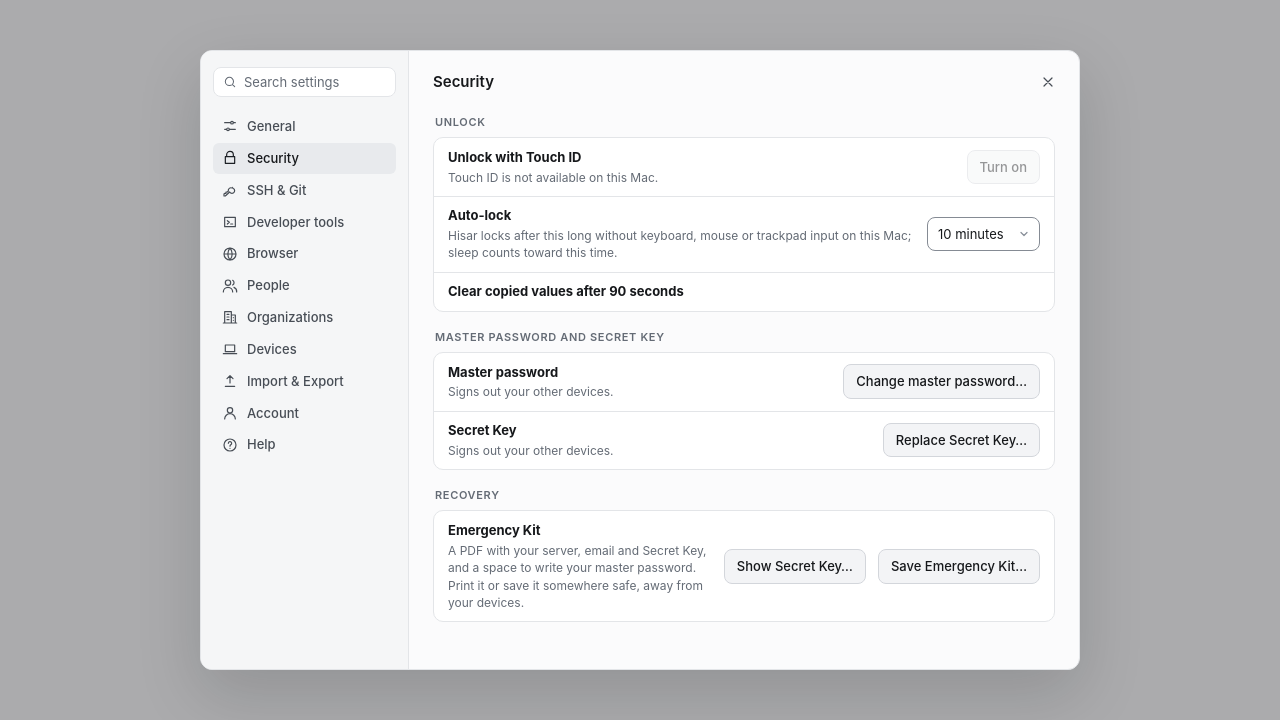
Scenario: Settings rows › offers changing the master password and replacing the Secret Key under Security
Check: the button with test id "replace-secret-key" reads "Replace Secret Key…", box left=883, top=422, right=1040, bottom=457
Click the button with test id "change-master-password" at (942, 382), box left=843, top=364, right=1040, bottom=399
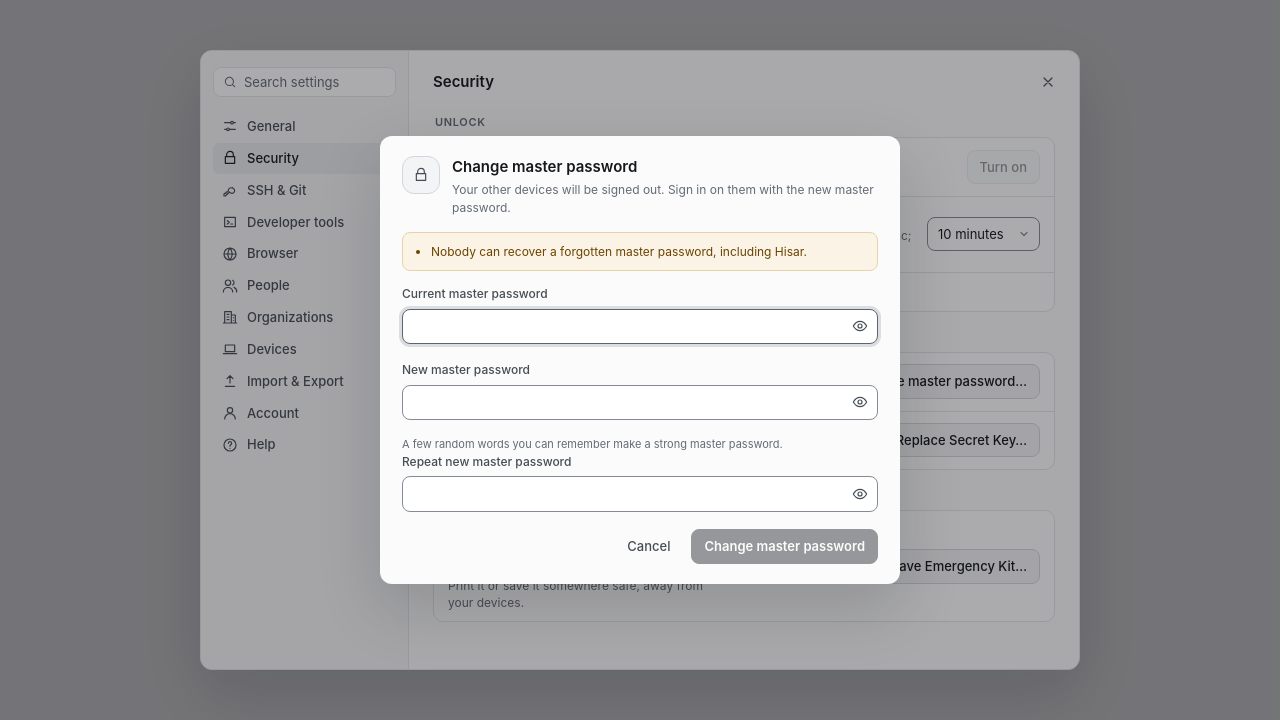
Check: the element with test id "change-master-password-dialog" is shown
